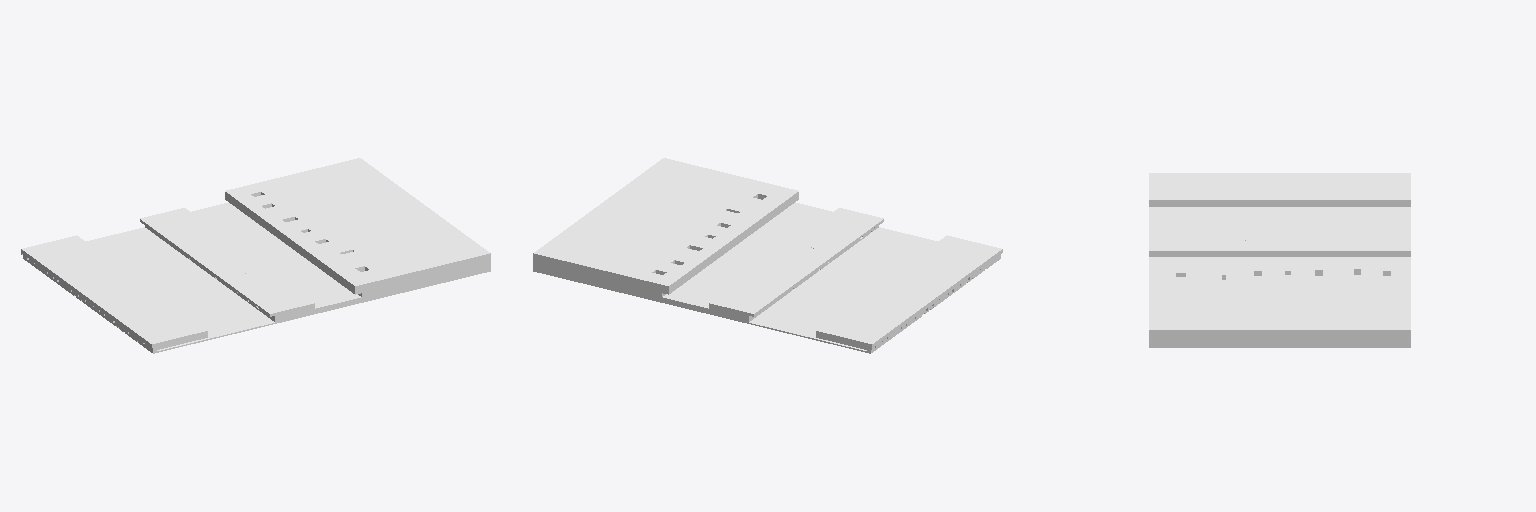
The model's file is roadTwo.obj.
The picture shows the model from 3 angles: view 1: azimuth 30°, elevation 25°; view 2: azimuth 150°, elevation 25°; view 3: azimuth 270°, elevation 25°; orthographic projection.
Visible parts, largest first — view 1: object 1; view 2: object 1; view 3: object 1.
Boxes of the visible parts, <box> form: object 1: <box>21,158,490,353</box>; object 1: <box>533,158,1002,353</box>; object 1: <box>1149,173,1410,347</box>.
Bounding box in the file's own units: 25.5 × 1.3 × 17.